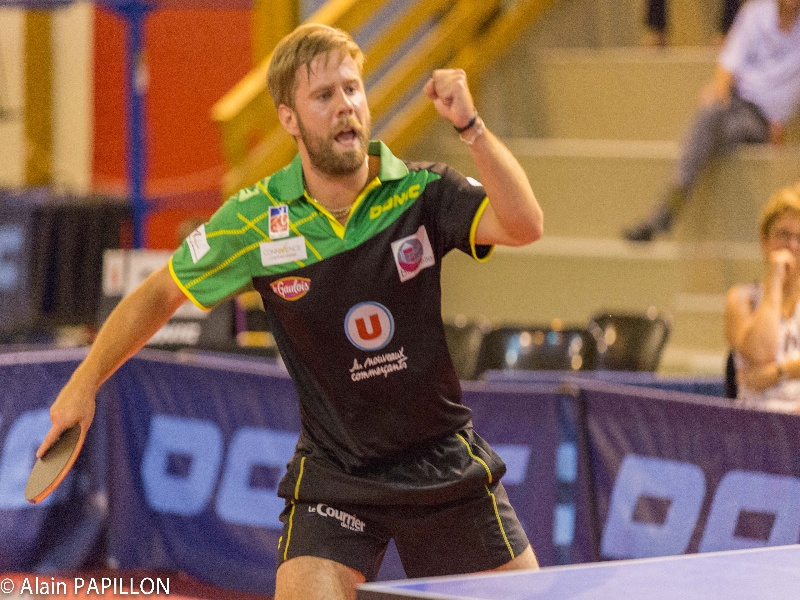face: (271, 45, 382, 175)
